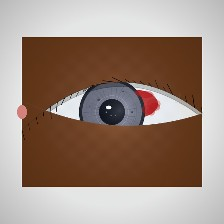hemorrhage_spot: (105, 79, 166, 129)
